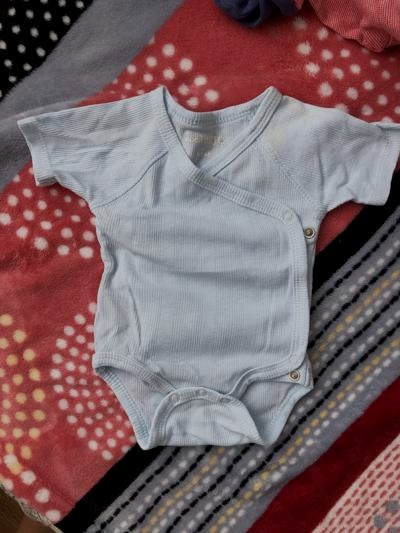Body: (15, 76, 396, 453)
